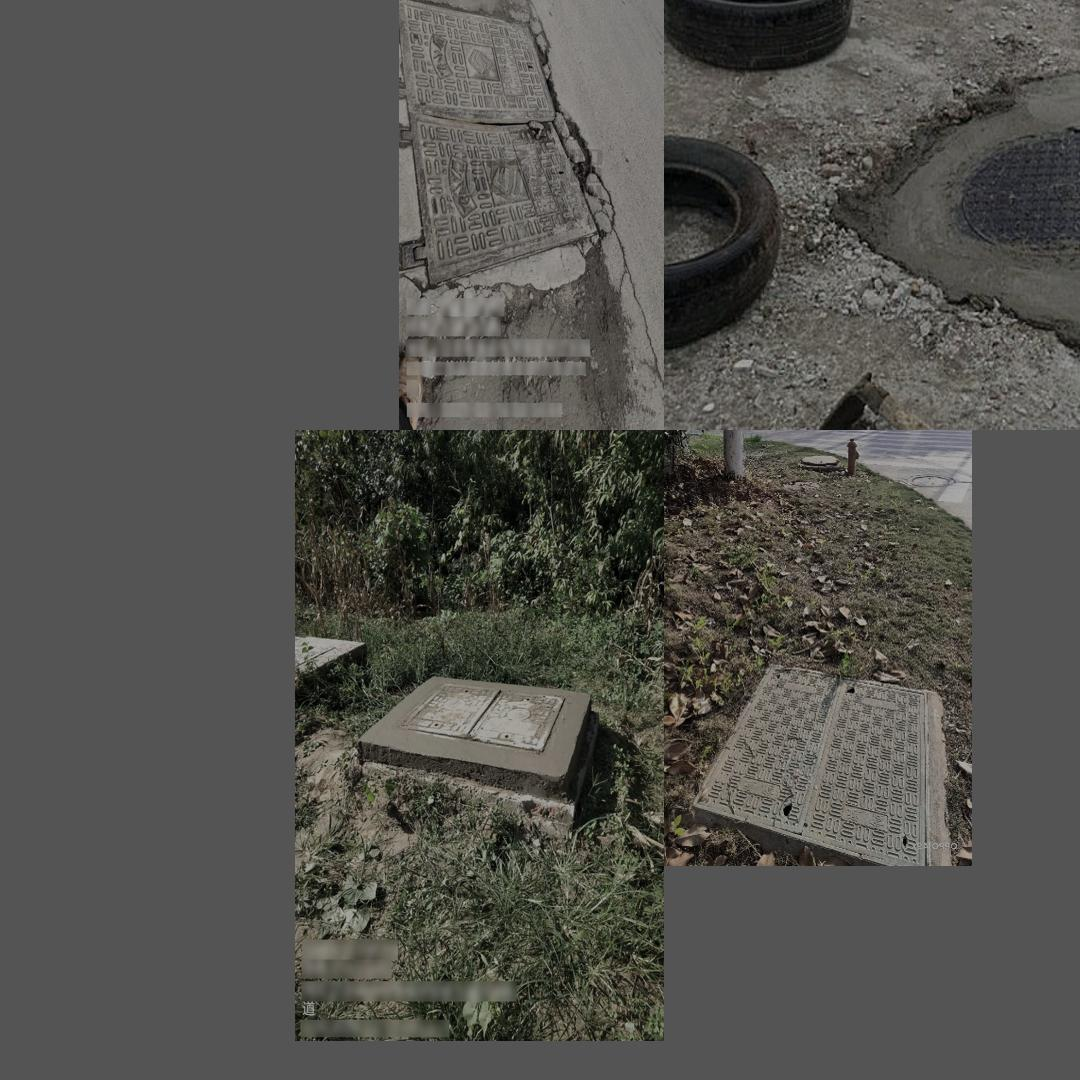good: (834, 71, 1080, 367), (690, 661, 931, 866), (400, 0, 590, 256), (396, 669, 567, 756)
